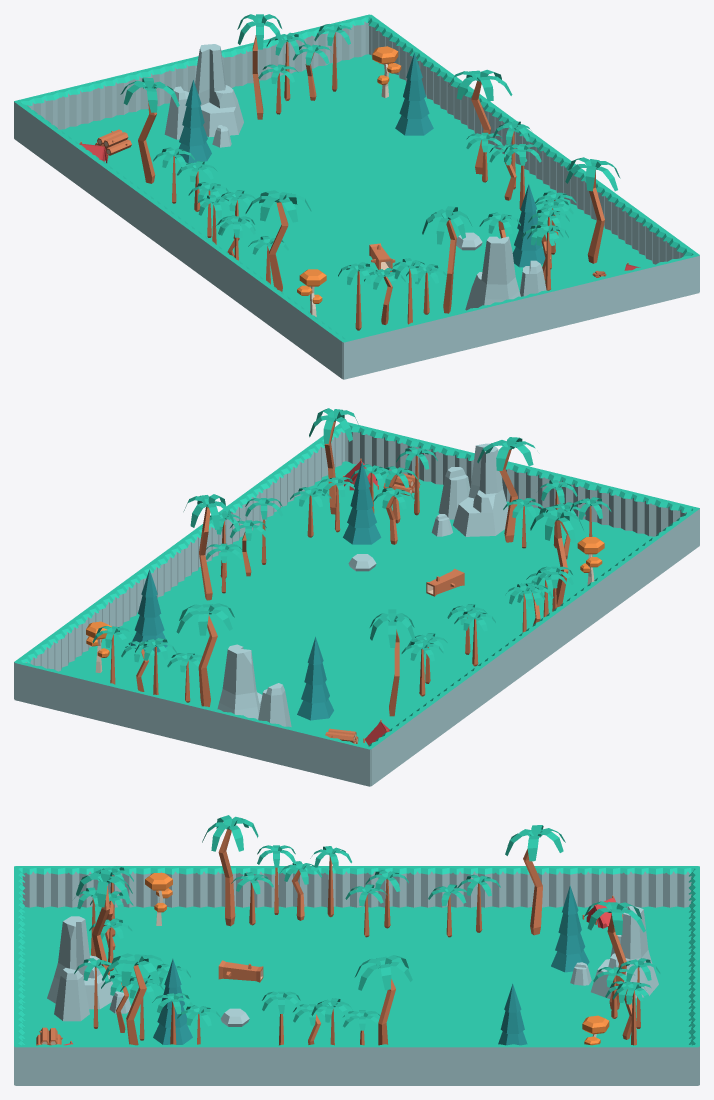
Rendered from map.glb.
The picture shows the model from 3 angles, top to bottom: view 1: azimuth 30°, elevation 25°; view 2: azimuth 150°, elevation 25°; view 3: azimuth 270°, elevation 25°; orthographic projection. The views are drawn at different scales.
Visible parts, largest first — view 1: mergedBlocks(Clone); view 2: mergedBlocks(Clone); view 3: mergedBlocks(Clone).
Boxes of the visible parts, x1,y1,x2,y2 form: mergedBlocks(Clone): [14, 14, 699, 379]; mergedBlocks(Clone): [14, 408, 699, 786]; mergedBlocks(Clone): [14, 815, 699, 1085].
Bounding box in the file's own units: 30.15 × 7.95 × 48.21.
